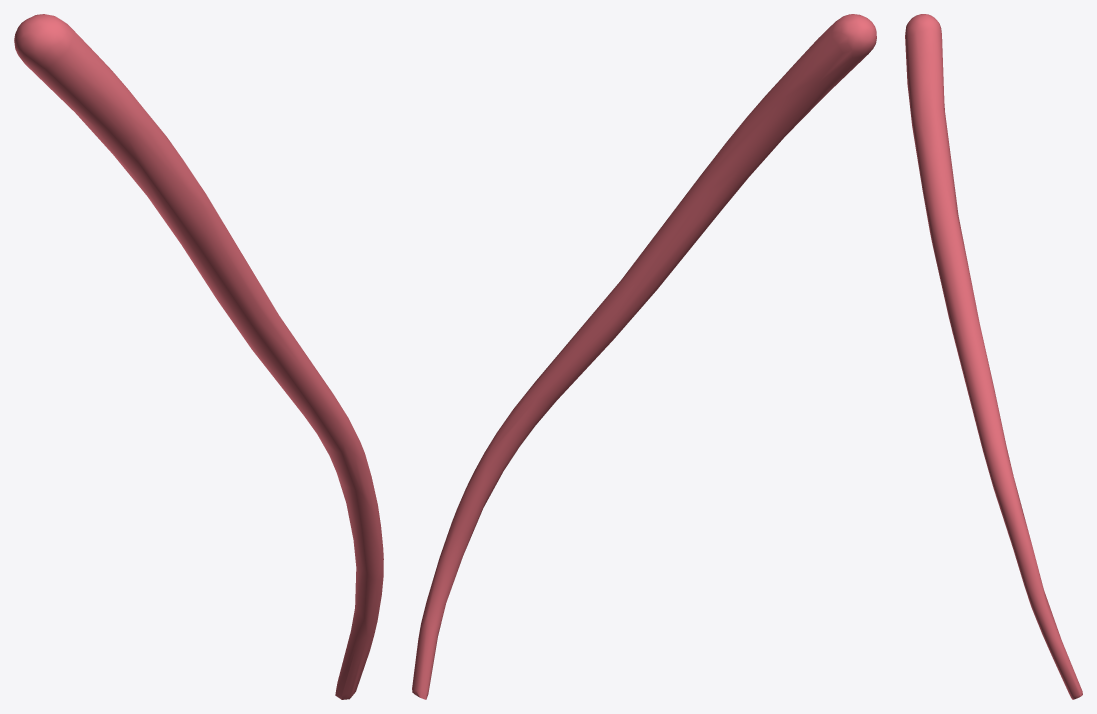
File: fma9450_fj2951.glb
The picture shows the model from 3 angles, left to right: view 1: azimuth 30°, elevation 25°; view 2: azimuth 150°, elevation 25°; view 3: azimuth 270°, elevation 25°; orthographic projection. The views are drawn at different scales.
Visible parts, largest first — view 1: FMA9450_FJ2951; view 2: FMA9450_FJ2951; view 3: FMA9450_FJ2951.
Boxes of the visible parts, x1,y1,x2,y2 form: FMA9450_FJ2951: (14,14,383,699); FMA9450_FJ2951: (412,14,876,699); FMA9450_FJ2951: (905,14,1082,699).
Bounding box in the file's own units: 0.0487 × 0.0877 × 0.0256.
